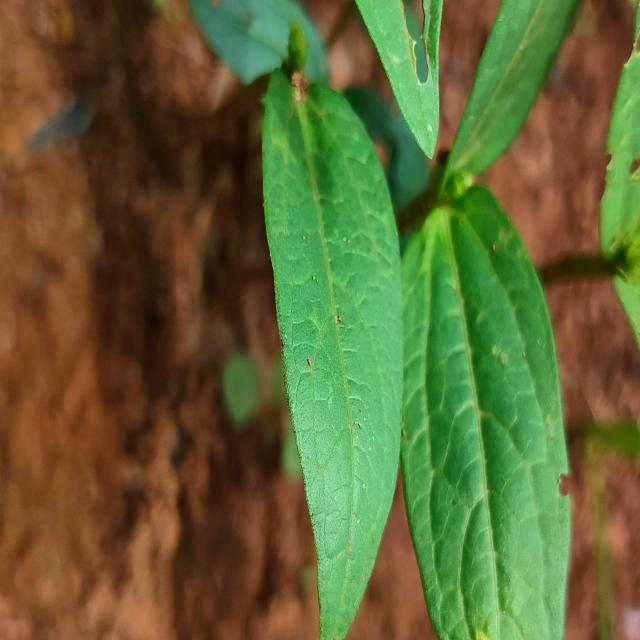Black gram_healthy: (262, 82, 404, 640), (400, 186, 570, 640)
